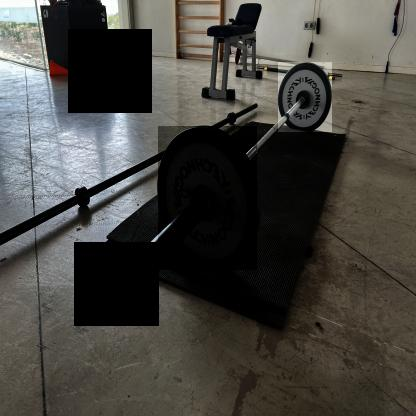barbell: (159, 128, 258, 272), (279, 63, 333, 133)
